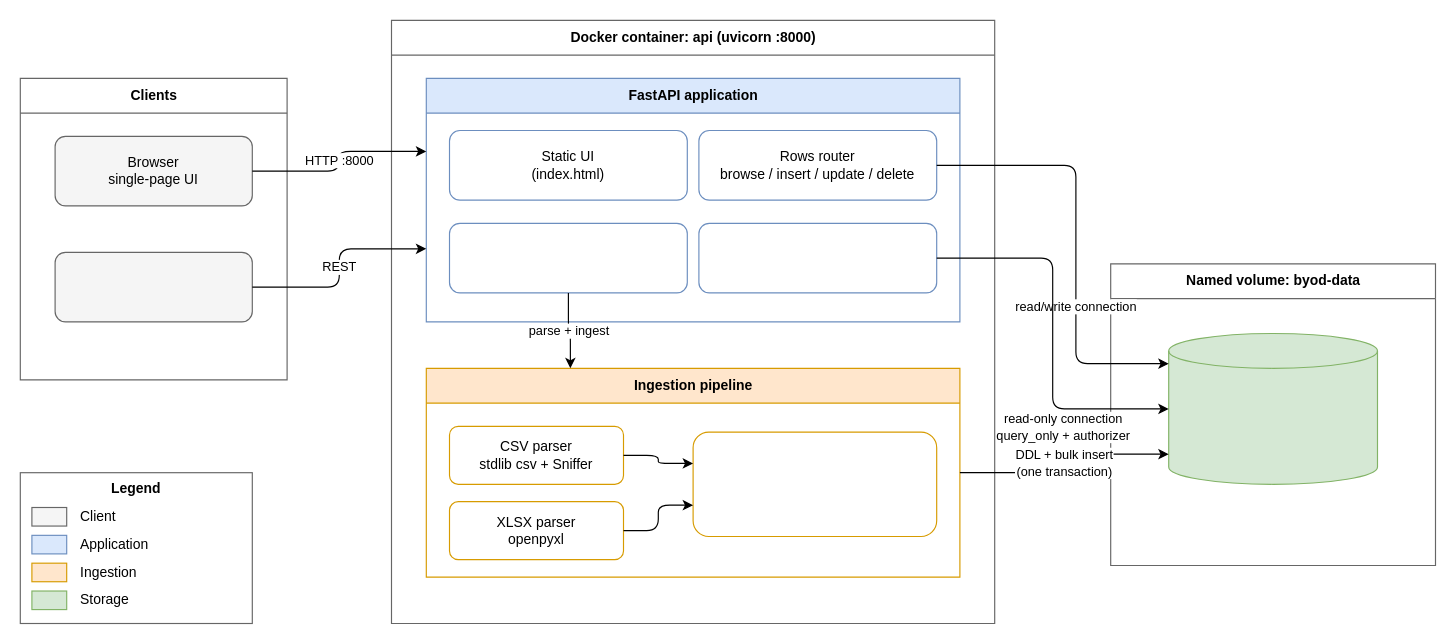
The diagram is 1456 pixels wide and 644 high, and some of its shapes have lost their labels. The shapes that lost their labels are listed below. From the top down, each one's centre as x and y in pixels, then its label:
At (x=567, y=257): "Datasets router upload / list / schema / delete".
At (x=817, y=257): "Query router read-only SQL".
At (x=153, y=286): "API client curl / Swagger UI".
At (x=1273, y=408): "SQLite /data/app.db _registry + ds_* tables".
At (x=814, y=483): "Shared pipeline sanitize headers, infer types, CREATE TABLE + bulk INSERT".
